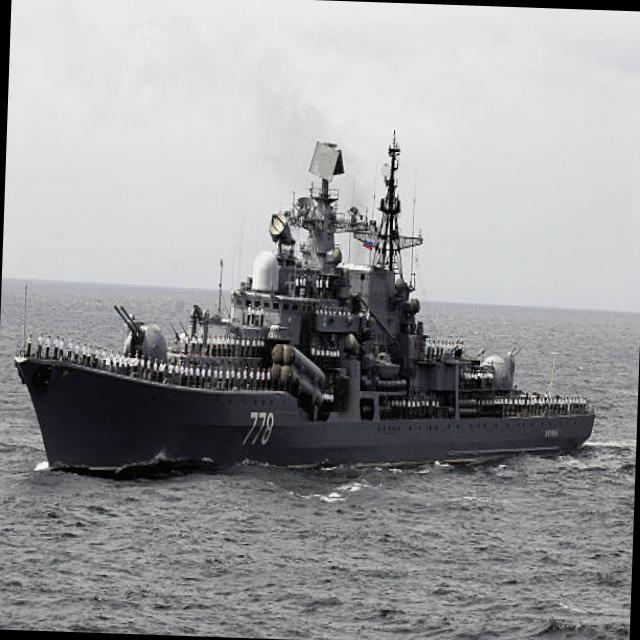Military: (15, 145, 594, 479)
